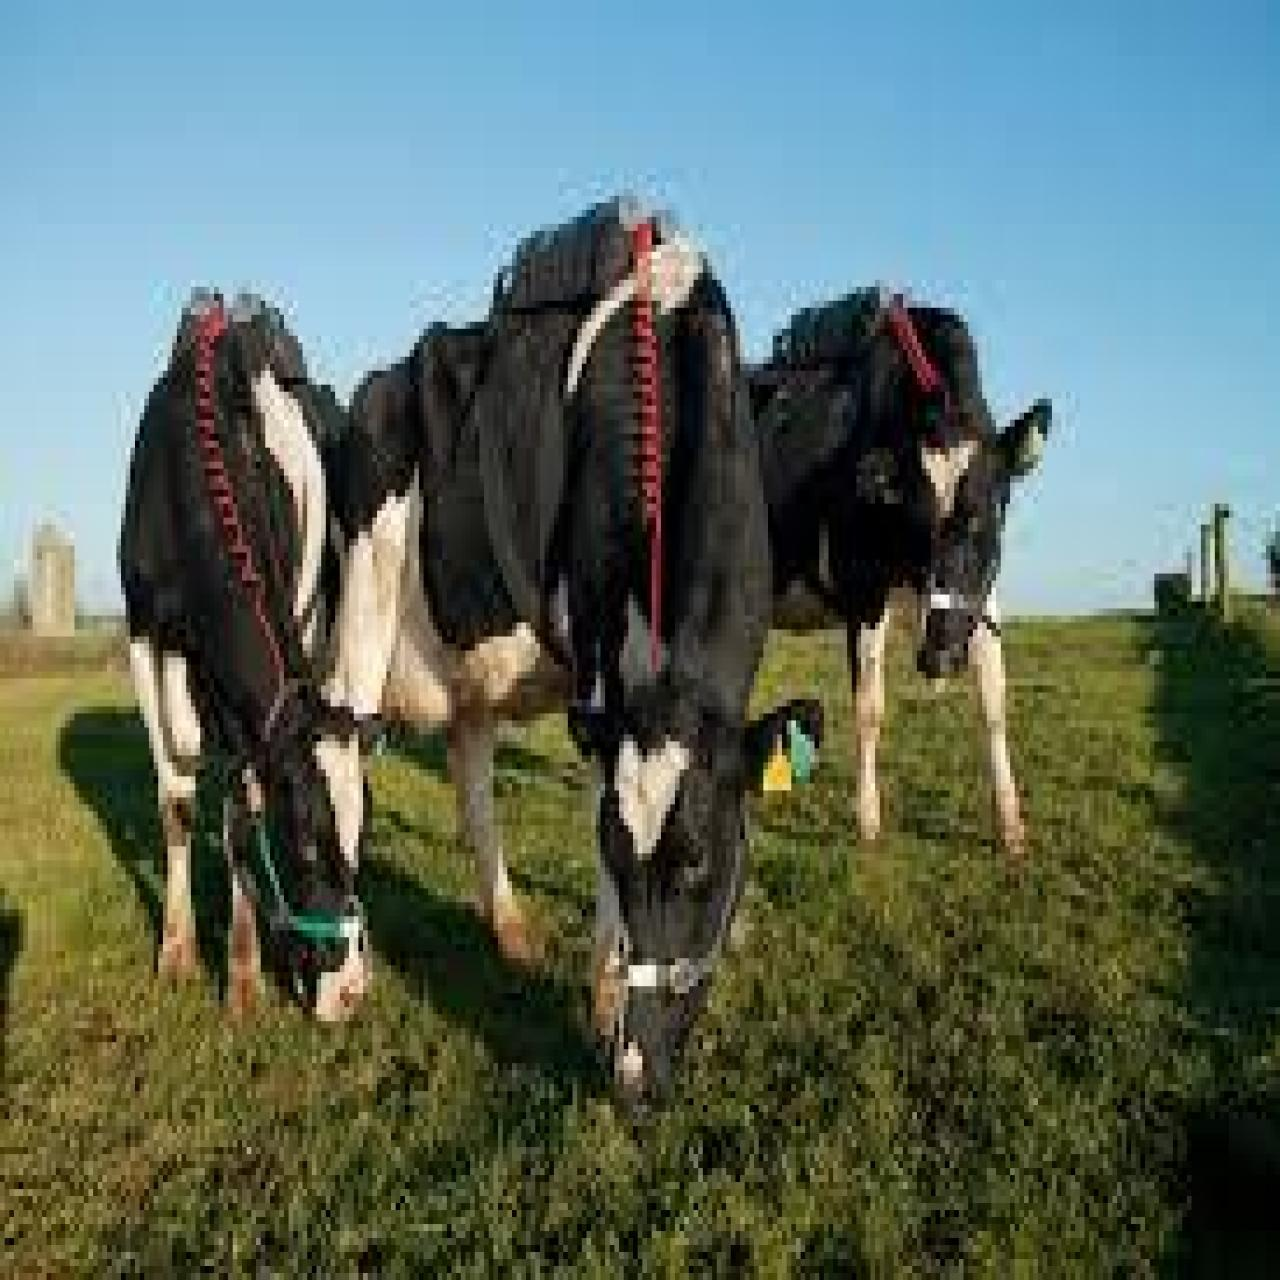cow: (340, 189, 833, 1105), (121, 276, 382, 1032), (740, 283, 1057, 864)
